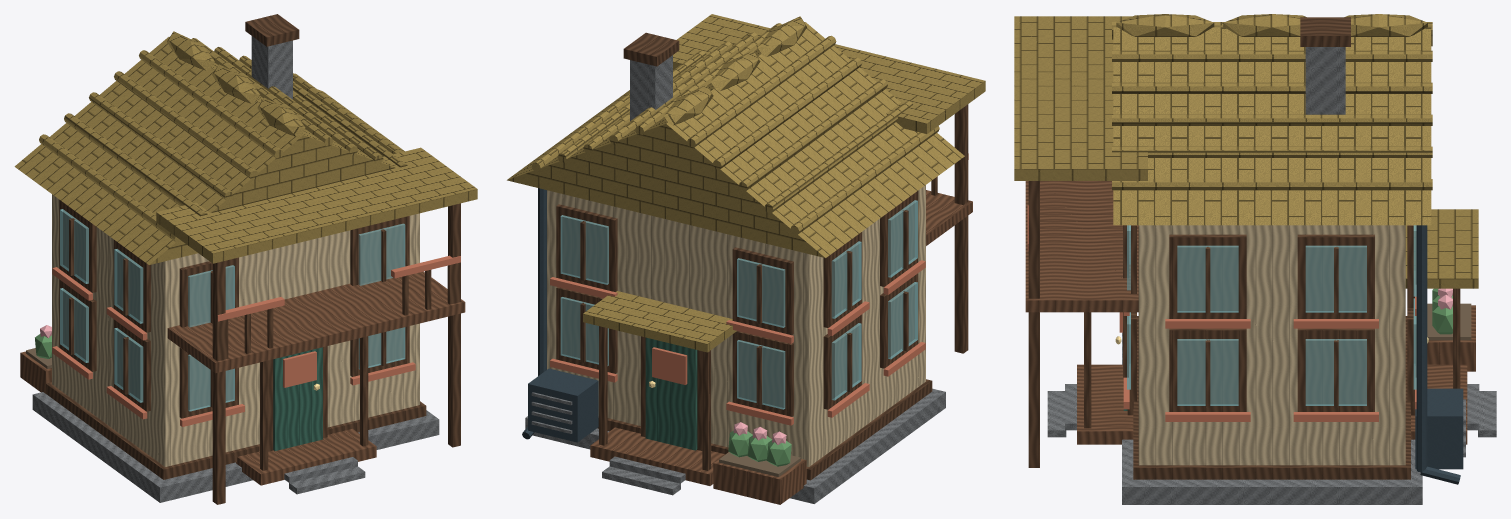
File: house_cottage_lv2_balcony.glb
3 renders of one model, left to right at view 1: azimuth 30°, elevation 25°; view 2: azimuth 150°, elevation 25°; view 3: azimuth 270°, elevation 25°, orthographic. The views are drawn at different scales.
Visible parts, largest first — view 1: gable_roof, walls, balcony_roof, balcony_floor, foundation, floor_trim, front_door, front_deck, balcony_pillar, front_window_frame.003, balcony_pillar.001, front_window_frame.002 (+39 smaller); view 2: gable_roof, walls, balcony_roof, back_porch_canopy, foundation, back_door, back_window_frame.002, back_window_frame.003, back_window_frame, back_ac_unit, back_deck, balcony_pillar (+44 smaller); view 3: gable_roof, walls, balcony_roof, balcony_floor, foundation, right_window_frame.002, right_window_frame.003, right_window_frame, right_window_frame.001, floor_trim, back_porch_canopy, right_window_glass.002 (+34 smaller).
Part boxes in pixels (x1,y1,x2,y2): gable_roof: (14,37,404,264); walls: (52,194,419,466); balcony_roof: (156,147,477,263); balcony_floor: (167,271,465,373); foundation: (32,392,439,502); floor_trim: (46,382,426,479); front_door: (273,347,322,450); front_deck: (236,428,376,485); balcony_pillar: (212,261,225,504); front_window_frame.003: (350,216,409,285); balcony_pillar.001: (448,203,460,447); front_window_frame.002: (179,257,238,327); gable_roof: (507,22,964,257); walls: (547,185,925,466); balcony_roof: (673,14,985,133); back_porch_canopy: (583,291,736,352); foundation: (525,388,945,503); back_door: (645,337,697,450); back_window_frame.002: (732,247,793,335); back_window_frame.003: (556,204,617,291); back_window_frame: (732,331,793,416); back_ac_unit: (528,368,598,442); back_deck: (590,427,724,485); balcony_pillar: (954,104,968,353); gable_roof: (1113,27,1431,225); walls: (1138,225,1405,465); balcony_roof: (1014,16,1147,180); balcony_floor: (1025,181,1138,312); foundation: (1122,332,1422,504); right_window_frame.002: (1169,234,1246,318); right_window_frame.003: (1297,234,1374,318); right_window_frame: (1169,328,1246,411); right_window_frame.001: (1297,328,1374,411); floor_trim: (1133,316,1410,479); back_porch_canopy: (1405,209,1478,288); right_window_glass.002: (1177,245,1238,312).
Size of the model in its own units: 3.15 by 3.56 by 3.61.
Materials: 13 (7 with a texture image).
